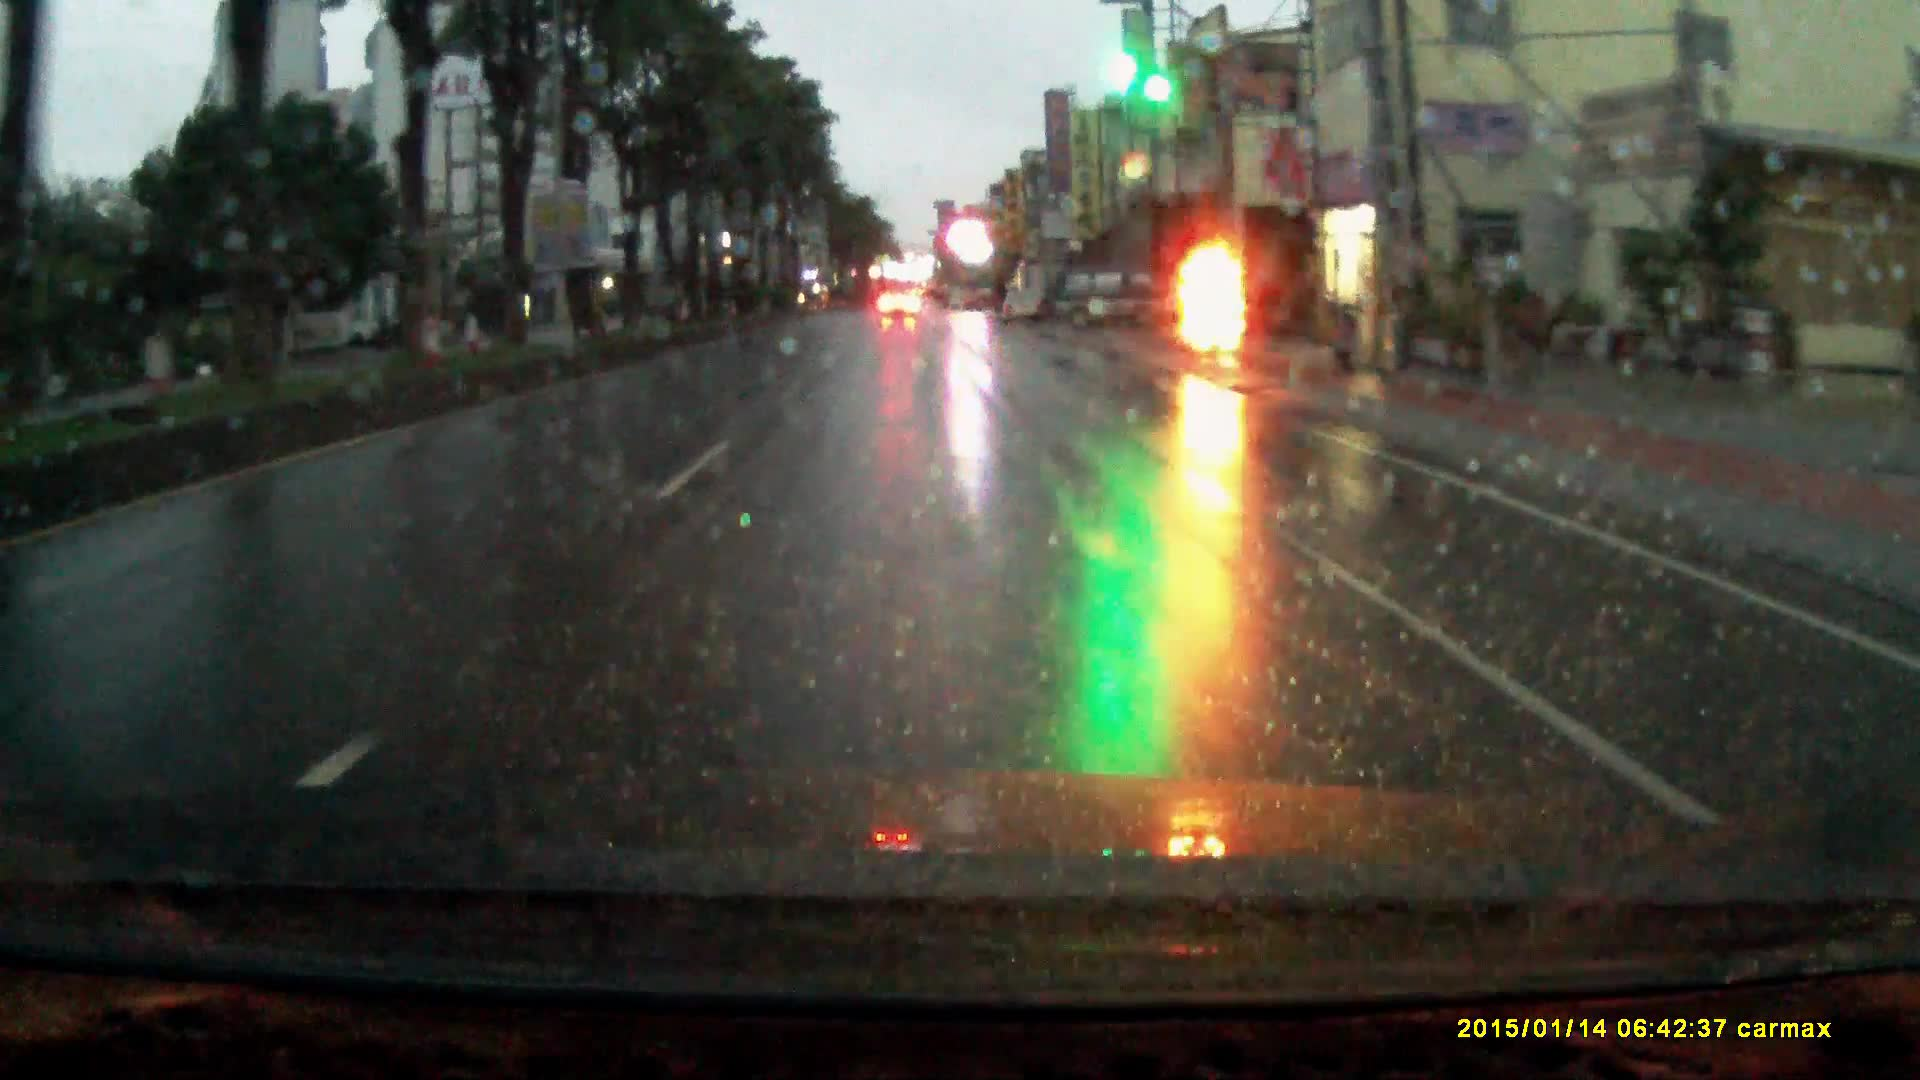vehicle: (1054, 272, 1178, 338), (1000, 290, 1044, 324), (877, 286, 920, 319)
